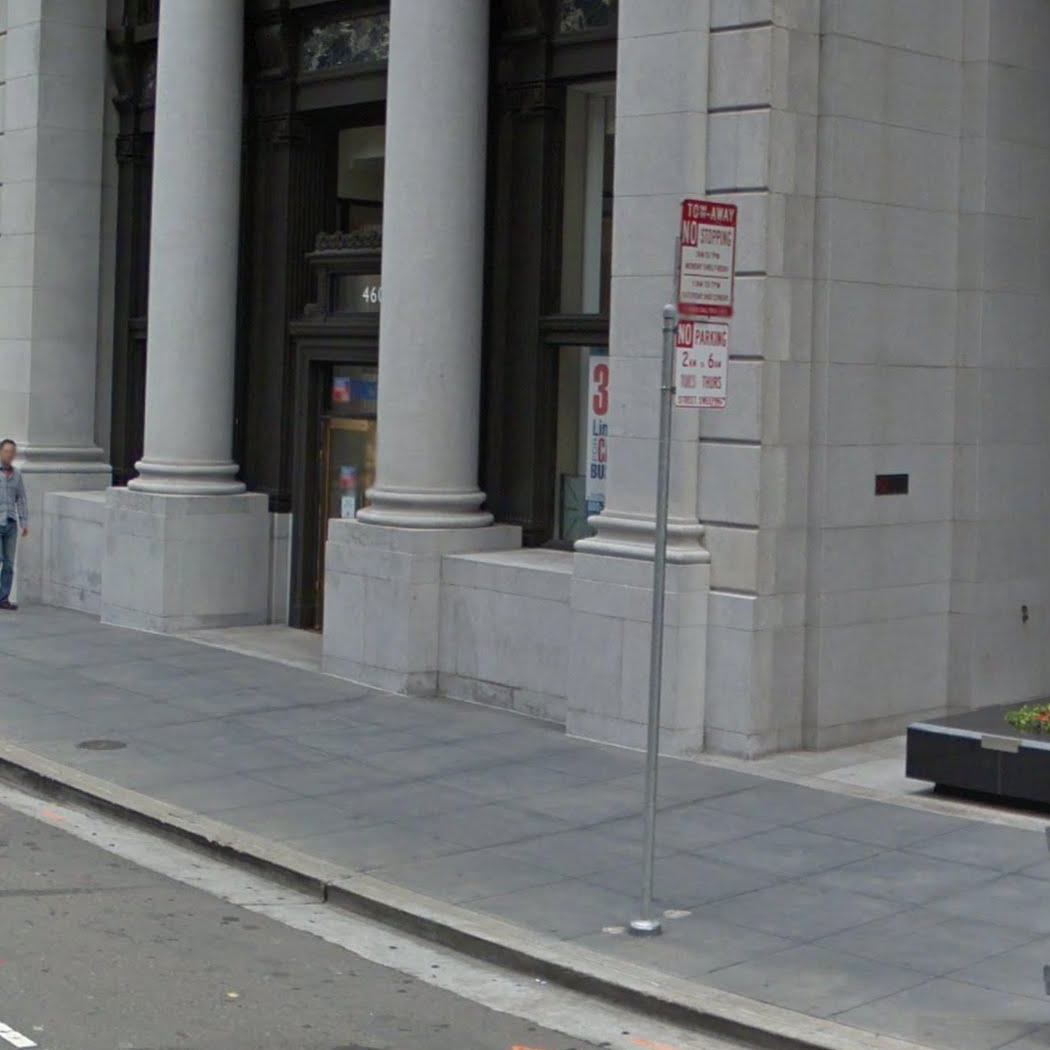No Parking: (676, 198, 739, 320), (672, 316, 731, 411)
